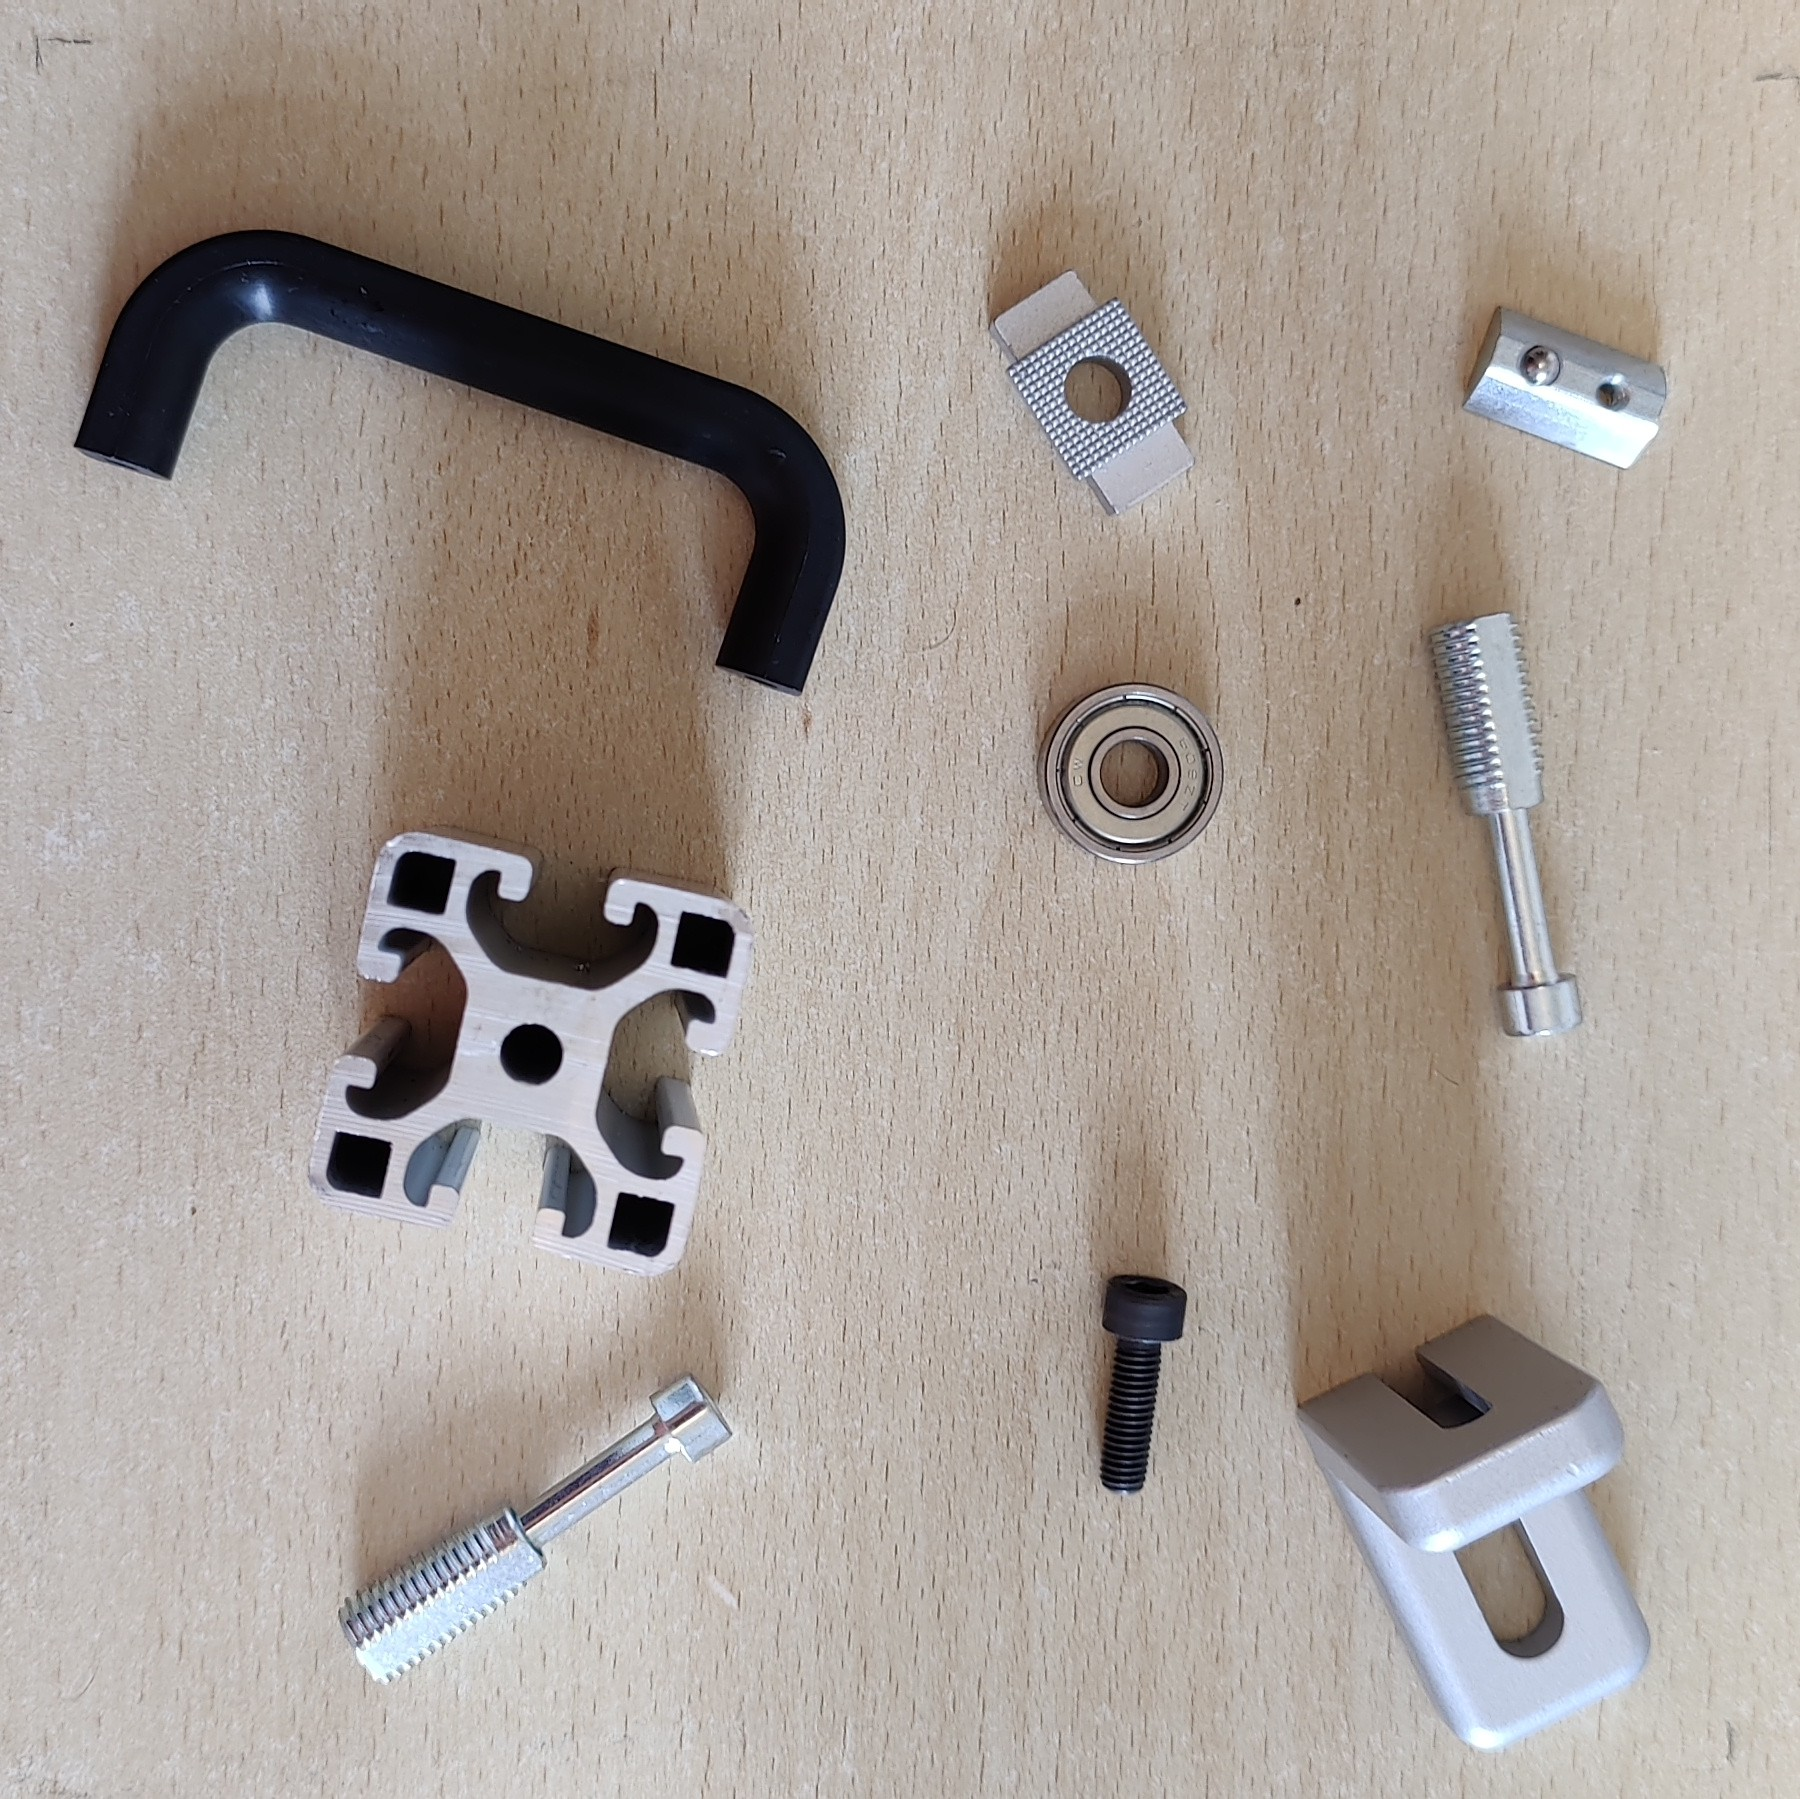Aluminium Extension: (306, 827, 754, 1282)
Ball Bearing: (1034, 680, 1227, 868)
Multiwinkel: (1293, 1308, 1657, 1755)
Pull Handle: (71, 226, 848, 700)
Shoulder Socket Head Cap Screw: (334, 1372, 733, 1690), (1423, 606, 1584, 1040)
Socket Head Cap Screw: (1097, 1269, 1191, 1499)
T Nut Square: (988, 265, 1194, 519)
T Spring Nut: (1459, 300, 1668, 473)
